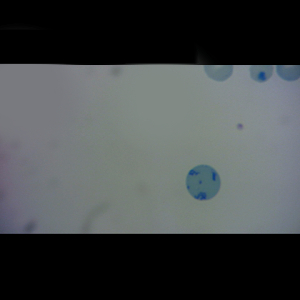aggregate reticulocyte: (184, 163, 222, 201)
